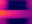Hotspot: (0, 11, 2, 15)
